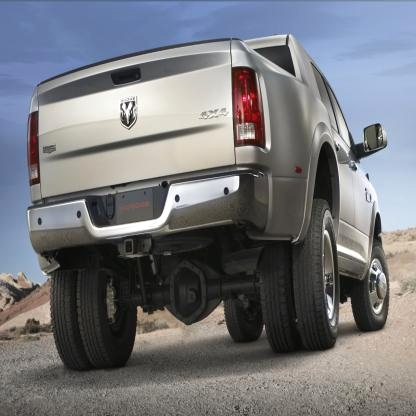Vehicle: (27, 32, 390, 370)
